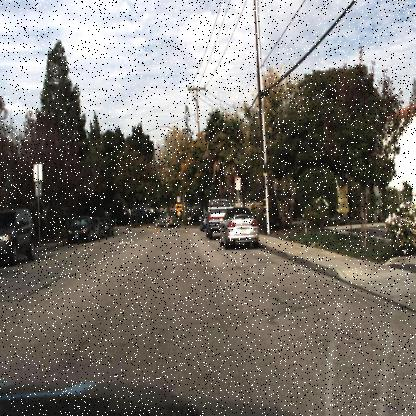car: (0, 207, 38, 267), (217, 203, 260, 250), (203, 197, 234, 240), (62, 214, 96, 247), (66, 215, 92, 246), (154, 208, 180, 229)
